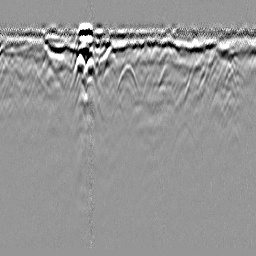cavity: (116, 61, 138, 91)
